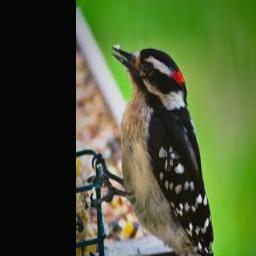Woodpecker: (88, 44, 224, 256)
